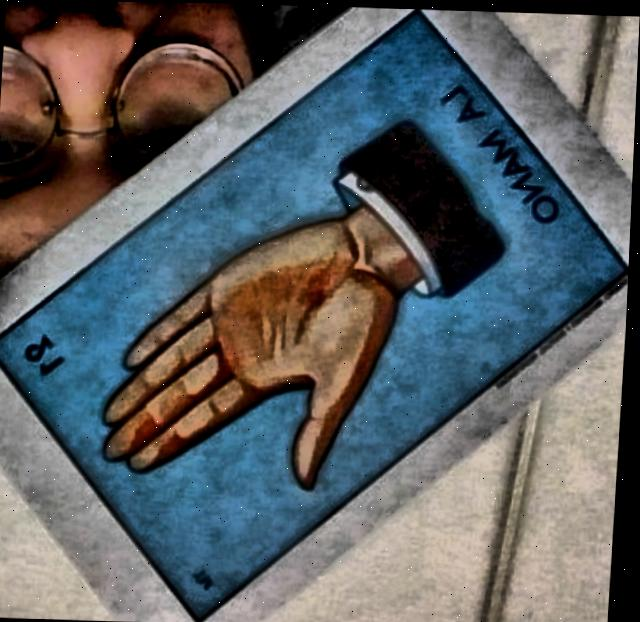La Mano: (0, 8, 630, 617)
